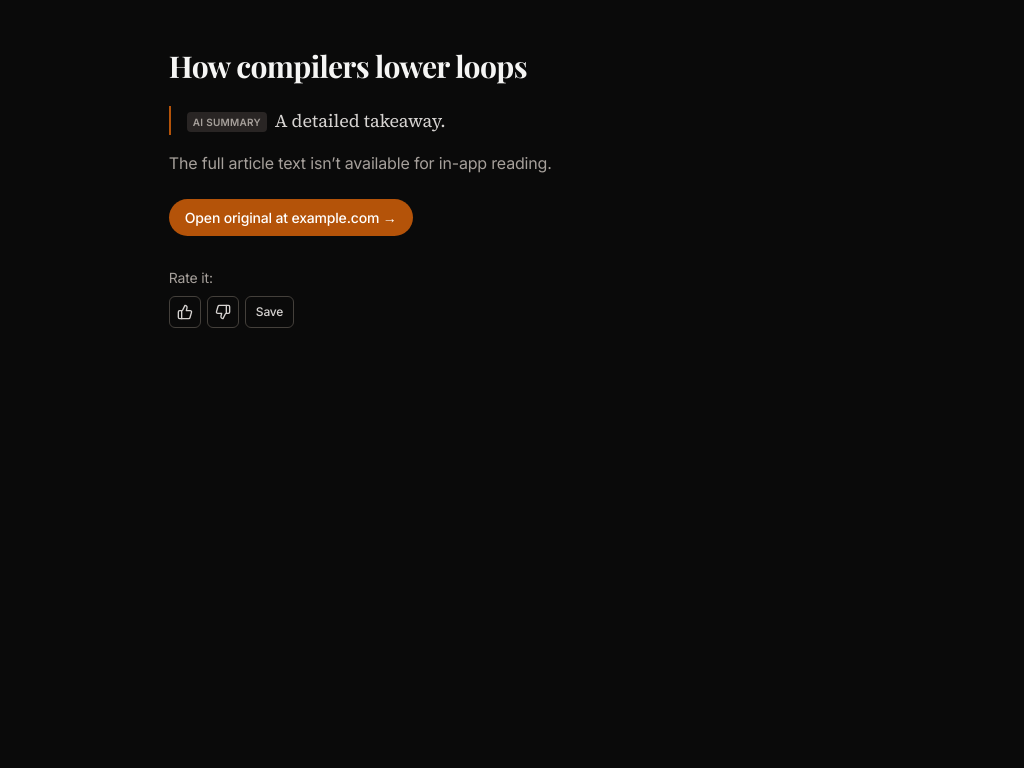
Test: NoTextFallback (#157) › records the outbound click without learning, then asks on return
Click the link "Open original at example.com →".
click(291, 217)  # box [169,199,413,236]
Wait 20000 ms
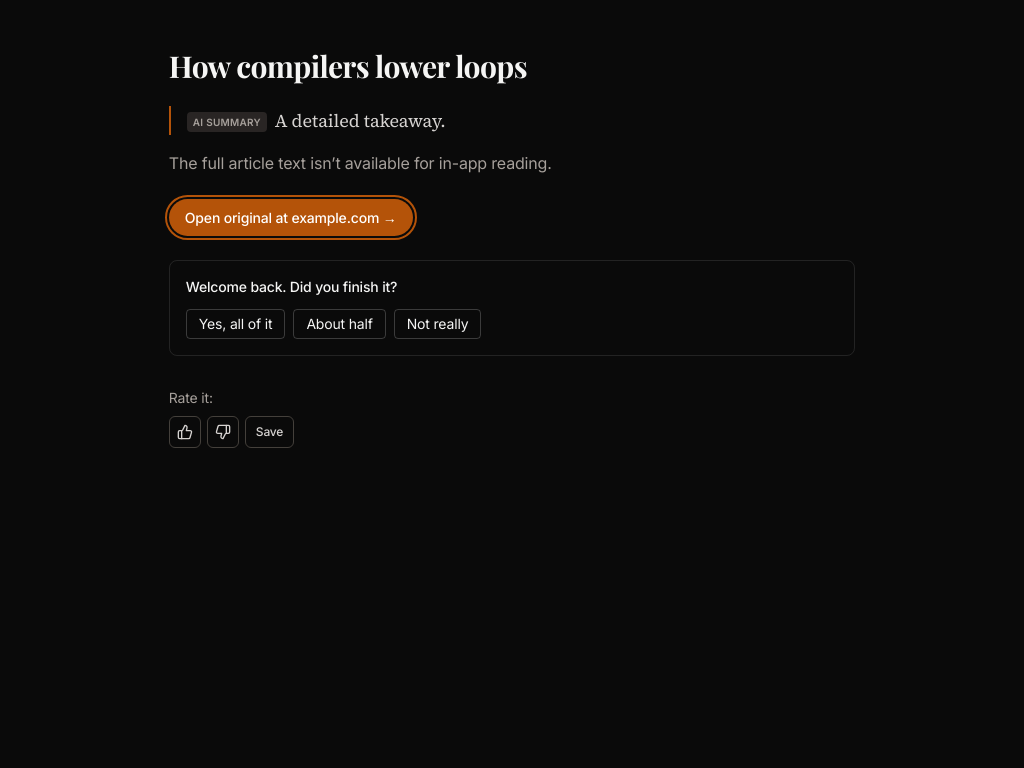
Now the dialog "Did you finish it?" is shown, box [169,260,855,356]
Click the button "Yes, all of it".
click(236, 324)  # box [186,309,285,339]
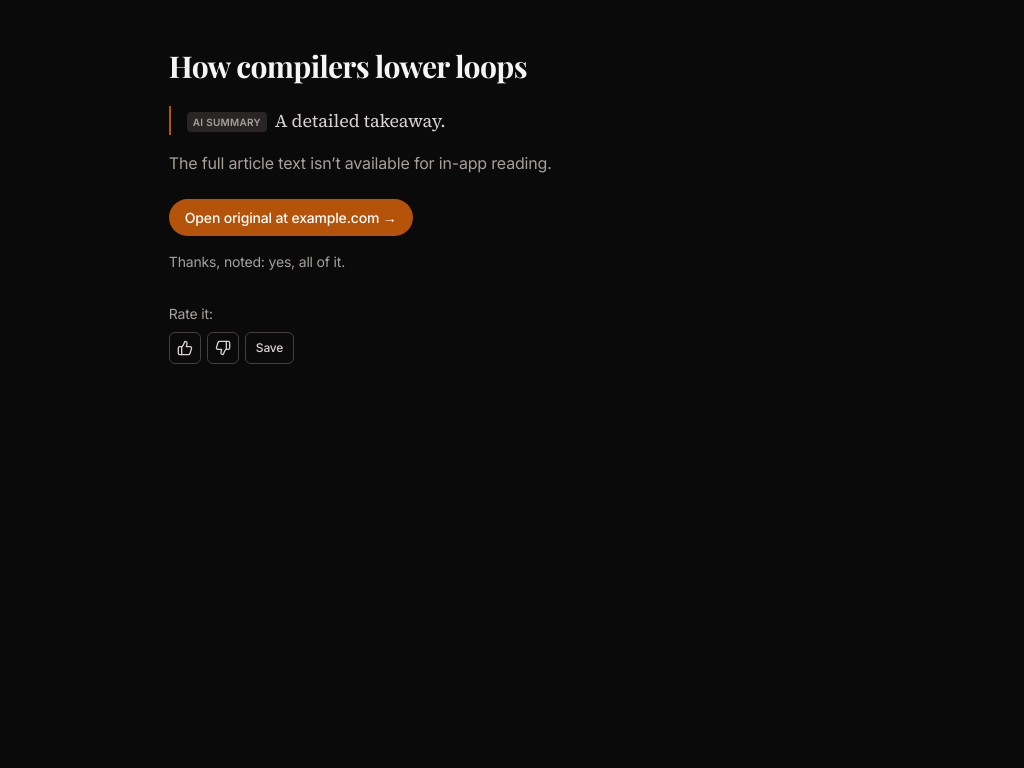
Now the dialog is gone
